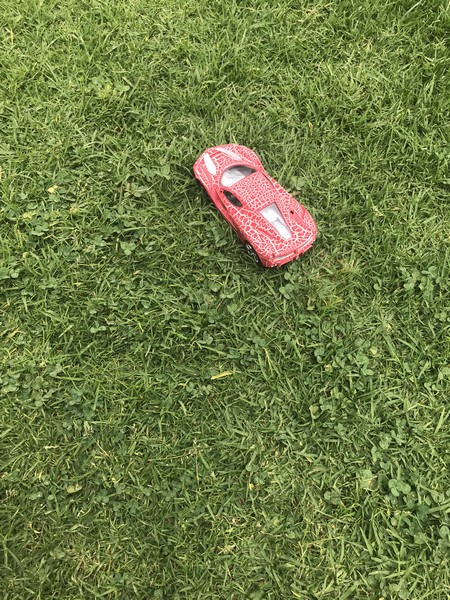RC: (191, 142, 320, 272)
